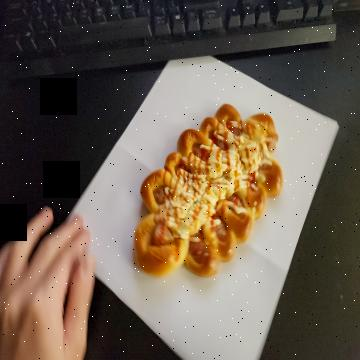pizza_bread: (136, 102, 283, 280)
